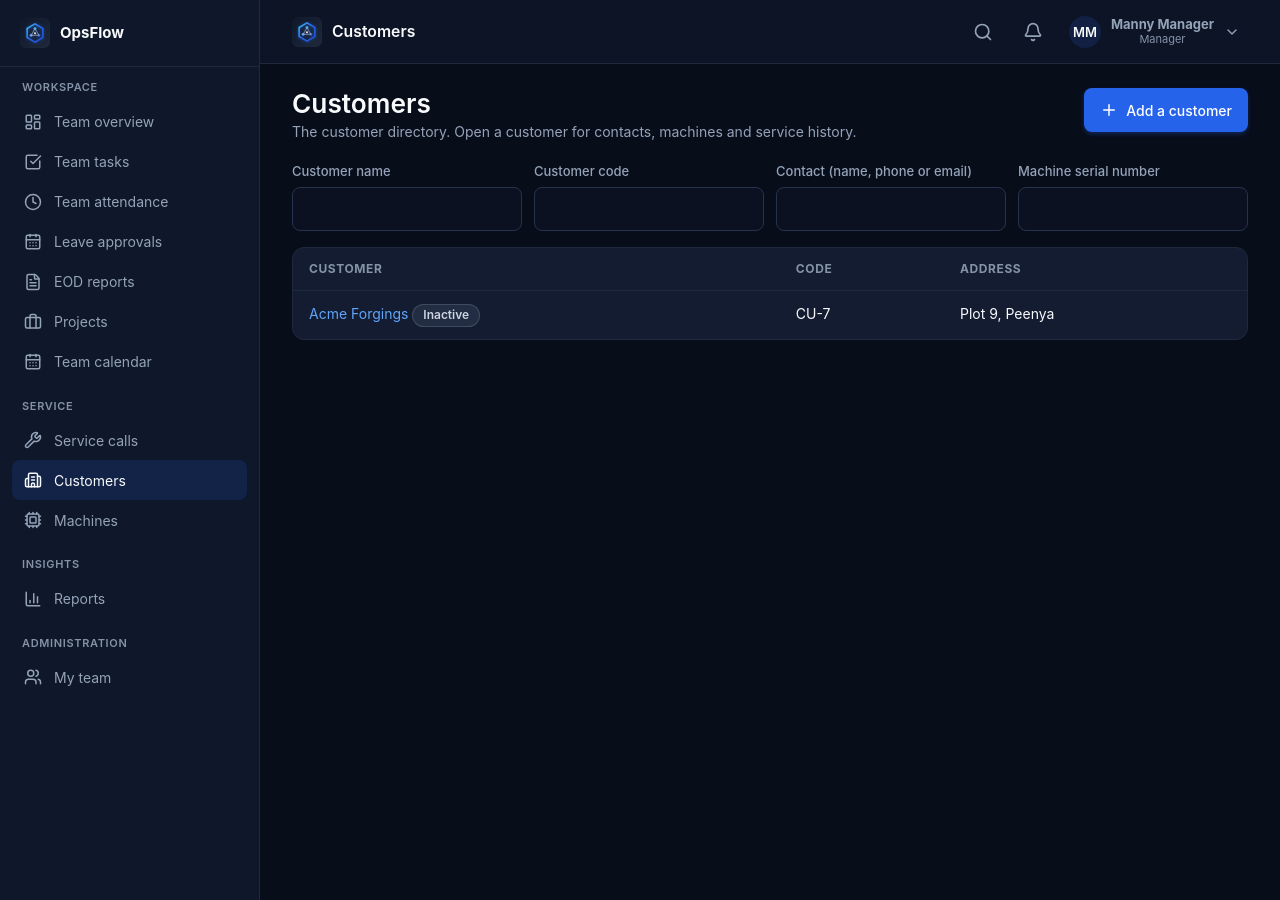
Scenario: Customers › searches by name, code, contact and machine serial number through the API, and marks inactive customers
Expected: the text "Inactive" is shown, [412, 304, 480, 327]
Type "Acme" into the field labelled "Customer name" at (407, 209), box [292, 187, 522, 231]
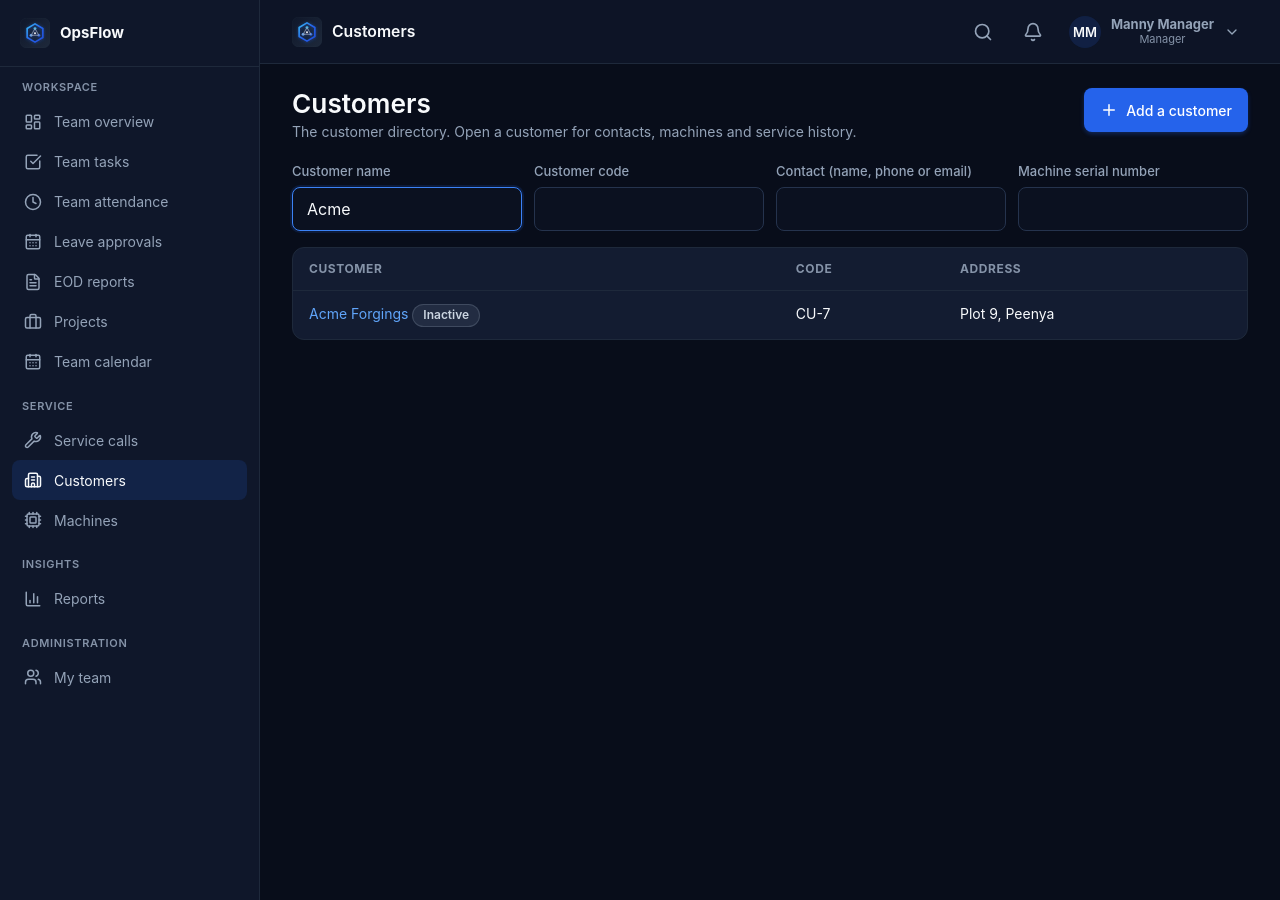
Type "CU-7" into the field labelled "Customer code" at (649, 209), box [534, 187, 764, 231]
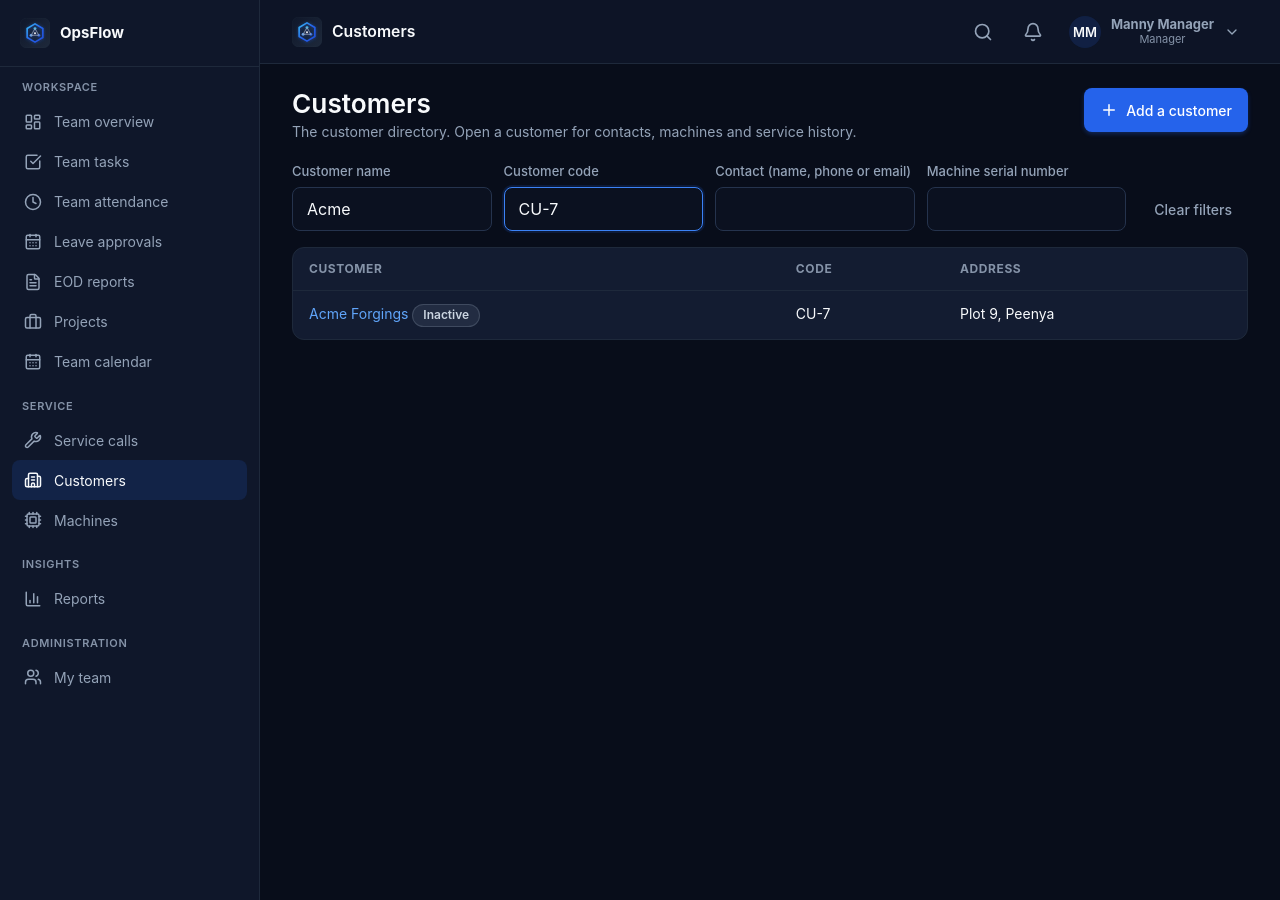
Type "priya" into the field labelled "Contact (name, phone or email)" at (815, 209), box [715, 187, 915, 231]
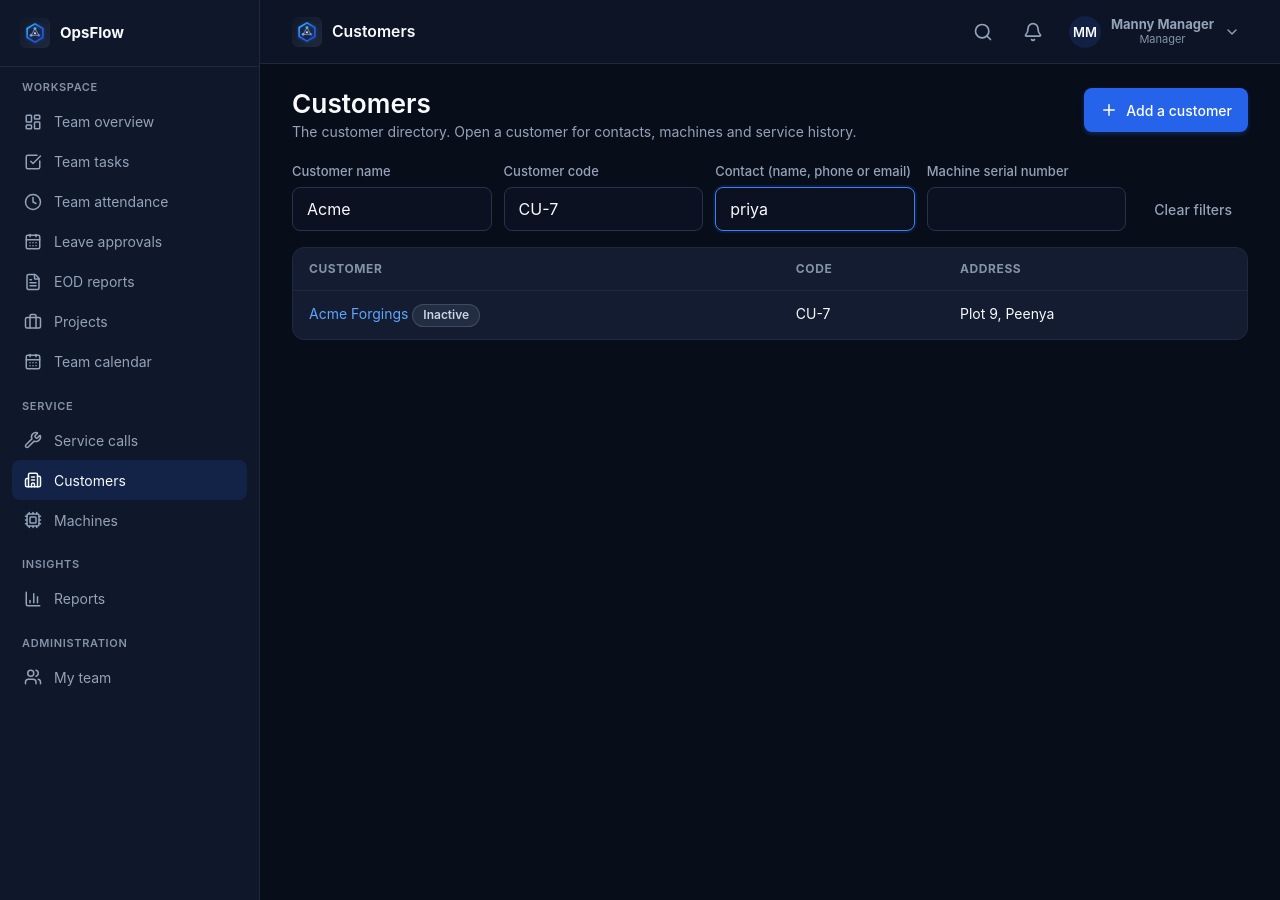
Type "SN-55" into the field labelled "Machine serial number" at (1026, 209), box [927, 187, 1126, 231]
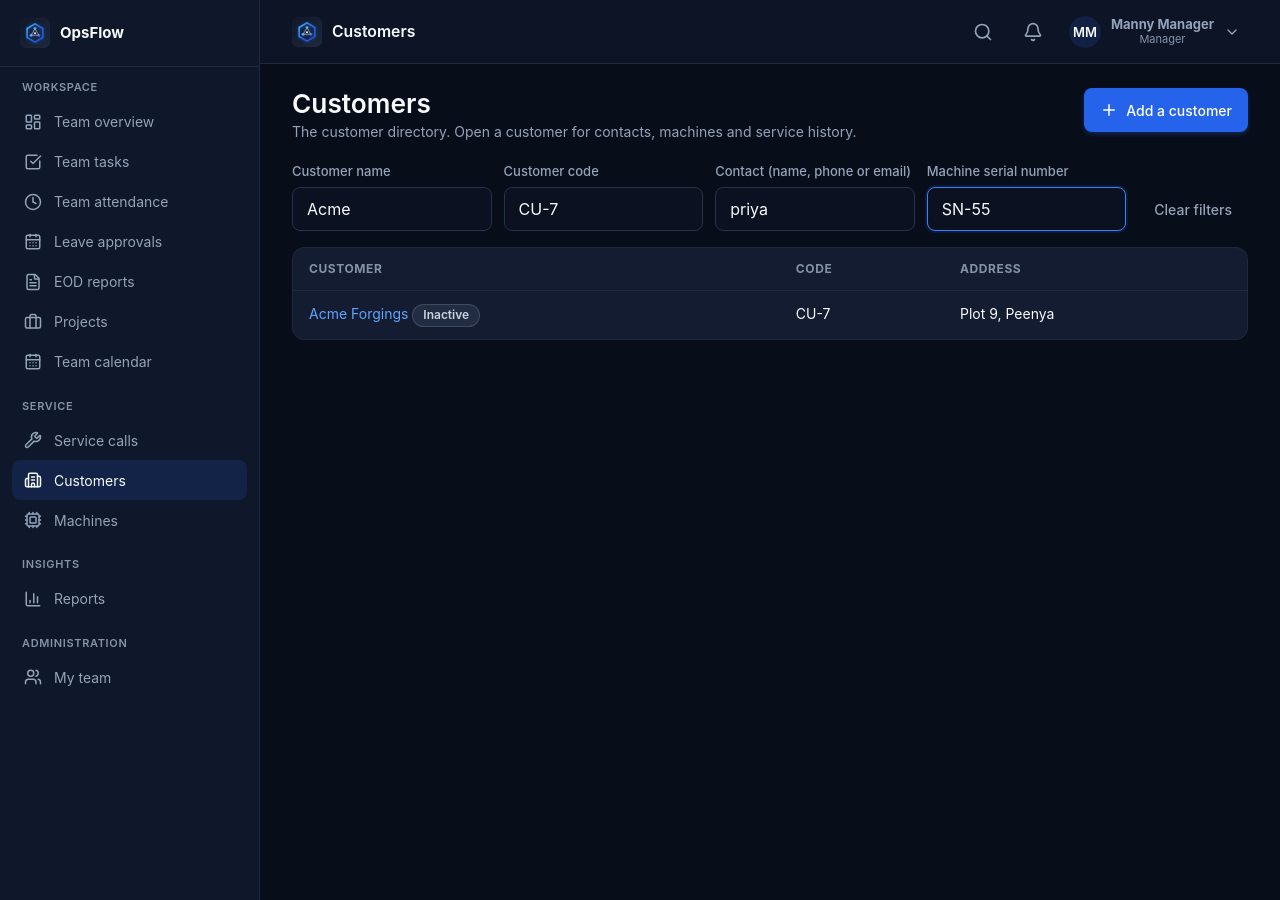
Expected: the cell "CU-7" is shown, [780, 291, 944, 339]
Click the button "Clear filters" at (1193, 209), box [1138, 187, 1248, 231]
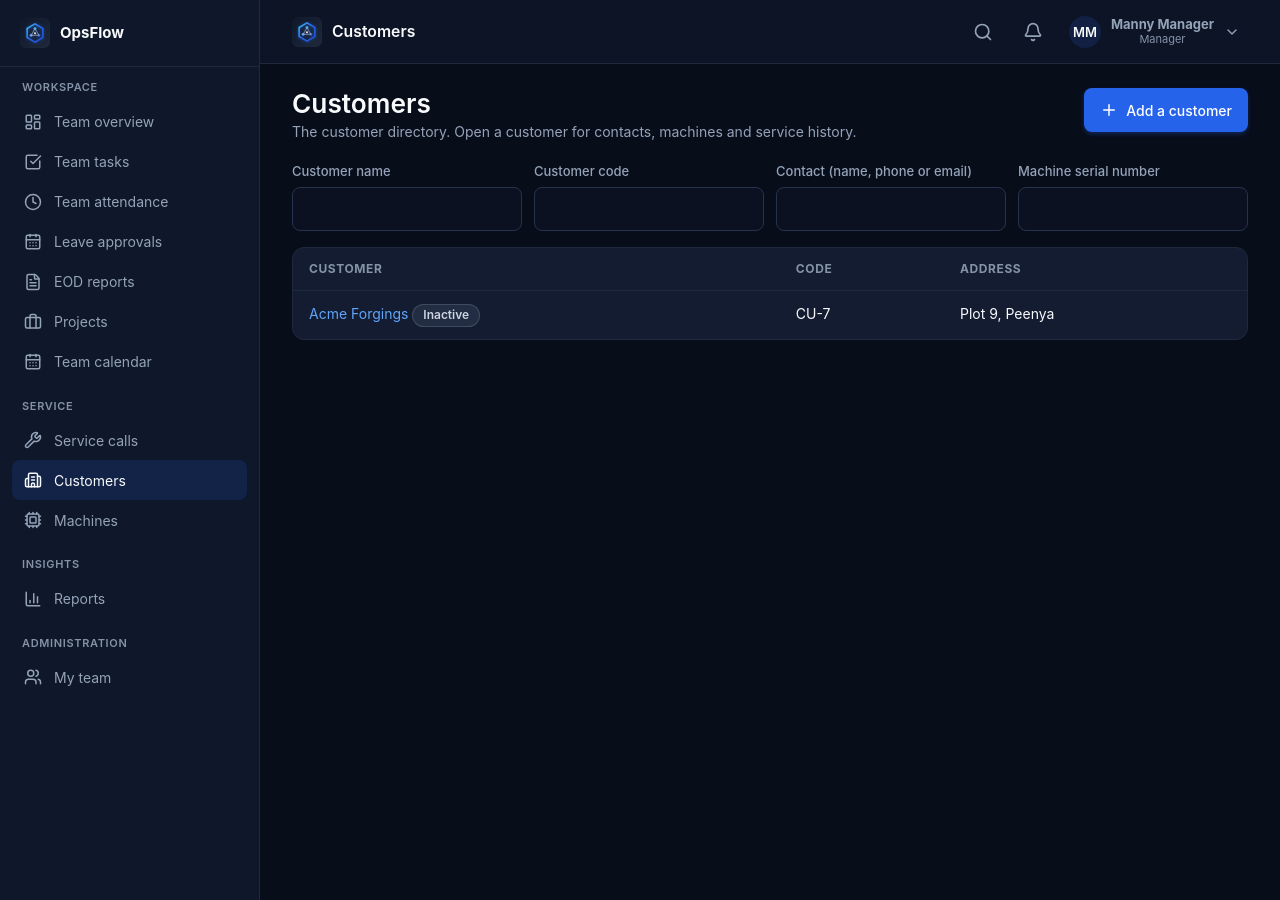
Result: the button "Clear filters" is gone
